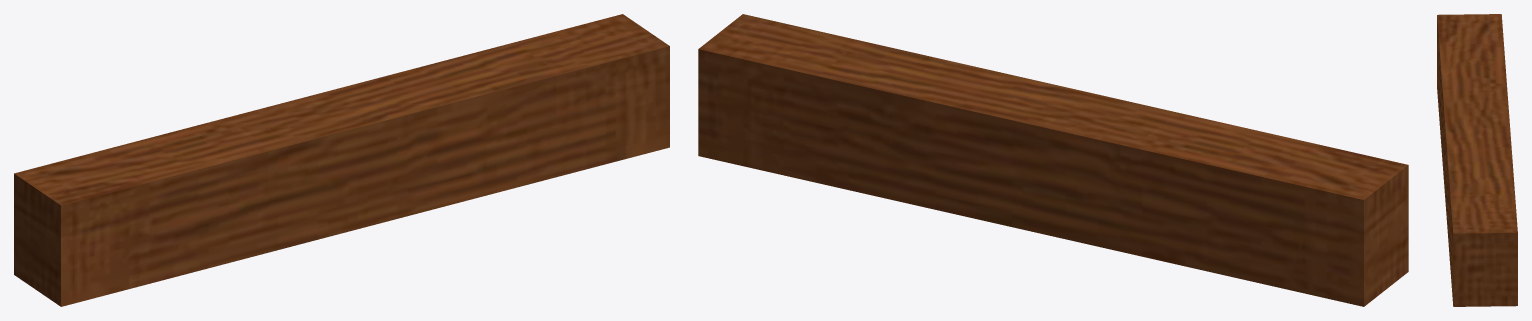
File: frame__top_rail_pos.glb
The picture shows the model from 3 angles, left to right: view 1: azimuth 30°, elevation 25°; view 2: azimuth 150°, elevation 25°; view 3: azimuth 270°, elevation 25°; orthographic projection. The views are drawn at different scales.
Parts seen in each view (by area): view 1: geometry_0; view 2: geometry_0; view 3: geometry_0.
Boxes of the visible parts, box(x1,y1,x2,y2) form: geometry_0: box(14, 14, 669, 306); geometry_0: box(698, 14, 1408, 306); geometry_0: box(1437, 14, 1517, 306).
Size of the model in its own units: 0.3212 by 0.05 by 0.05.
Materials: 1 (1 with a texture image).
